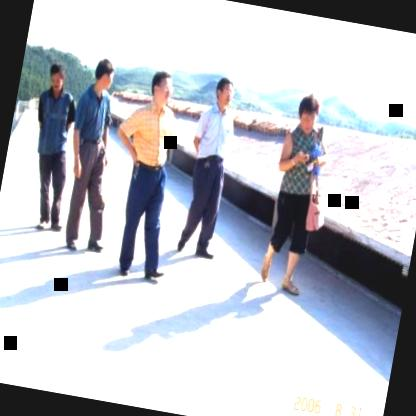head: (144, 65, 176, 113), (293, 88, 322, 136), (89, 54, 118, 96), (210, 72, 238, 112), (43, 58, 70, 93)
